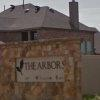Chimney: (64, 2, 84, 30)
